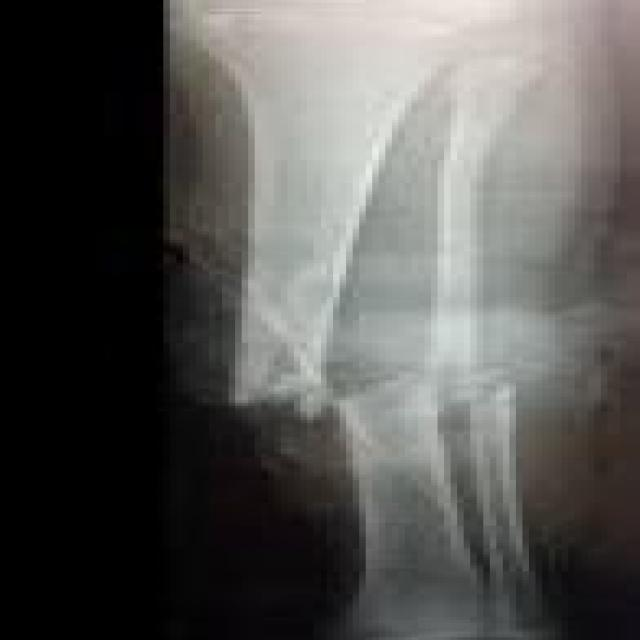Broken: (214, 76, 431, 412), (349, 377, 506, 625)
